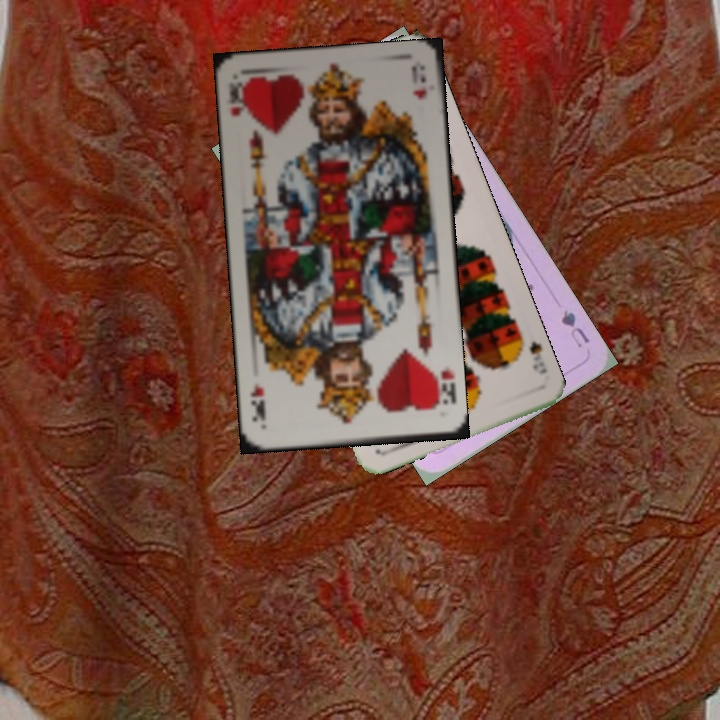GU: (557, 305, 592, 351)
HK: (429, 364, 458, 411), (224, 78, 252, 119)
S9: (511, 328, 551, 377)
